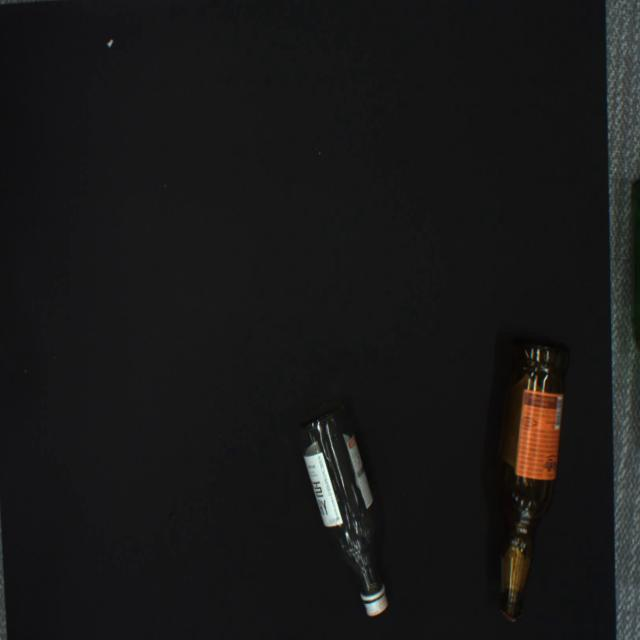beer-bottle: (495, 342, 569, 621)
soju-bottle: (296, 401, 388, 616)
